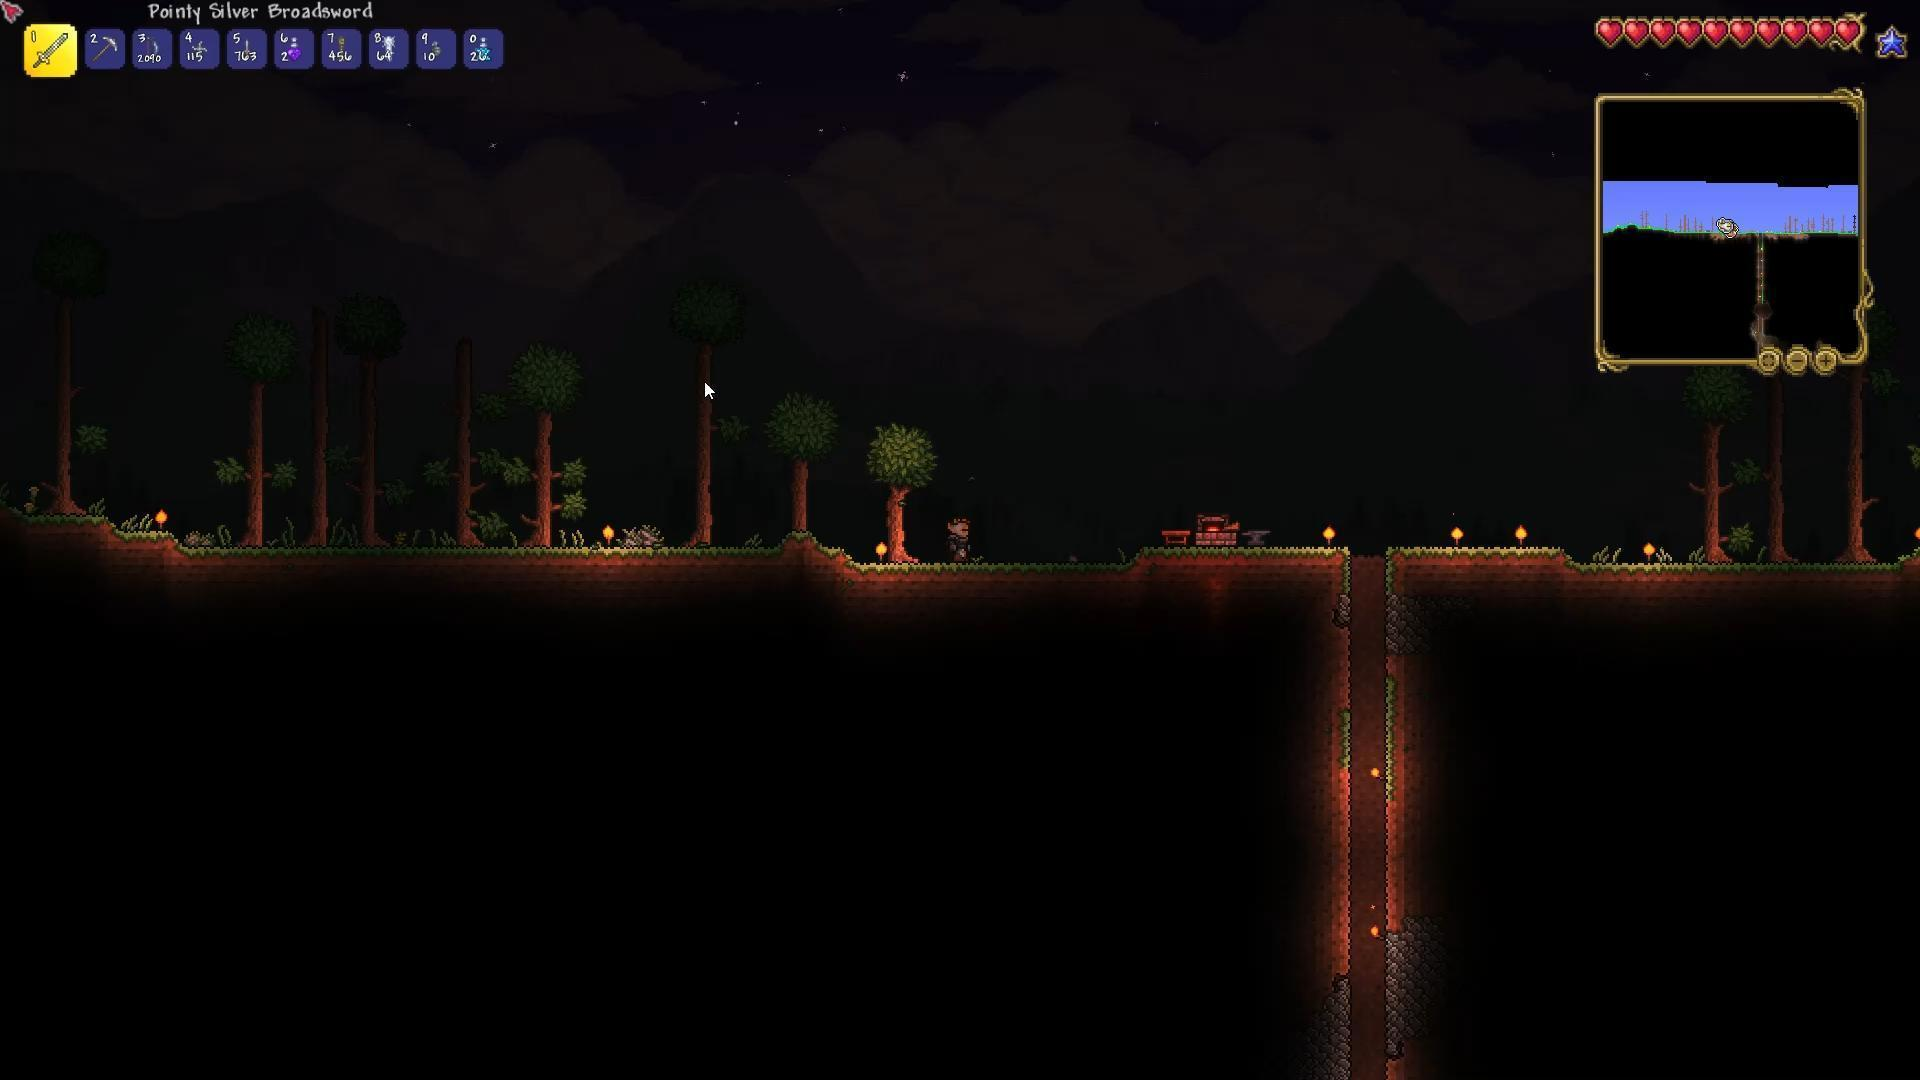anvil: (1237, 524, 1274, 550)
bow: (141, 34, 161, 62)
furnace: (1188, 510, 1240, 553)
grenade: (429, 38, 442, 59)
knife: (237, 36, 251, 61)
pickaxe: (88, 33, 123, 67)
recallP: (473, 36, 496, 63)
rope: (335, 33, 348, 63), (382, 36, 397, 58)
shuriken: (190, 40, 207, 57)
sword: (30, 32, 69, 71)
workbench: (1156, 524, 1193, 545)
